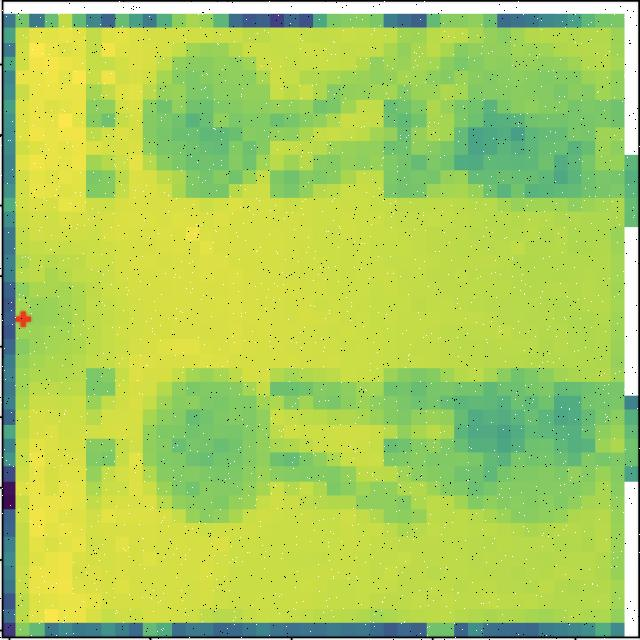Concrete: (134, 35, 275, 203)
Glass: (449, 363, 591, 531)
Metal: (144, 357, 277, 530)
Wood: (442, 44, 601, 210)
